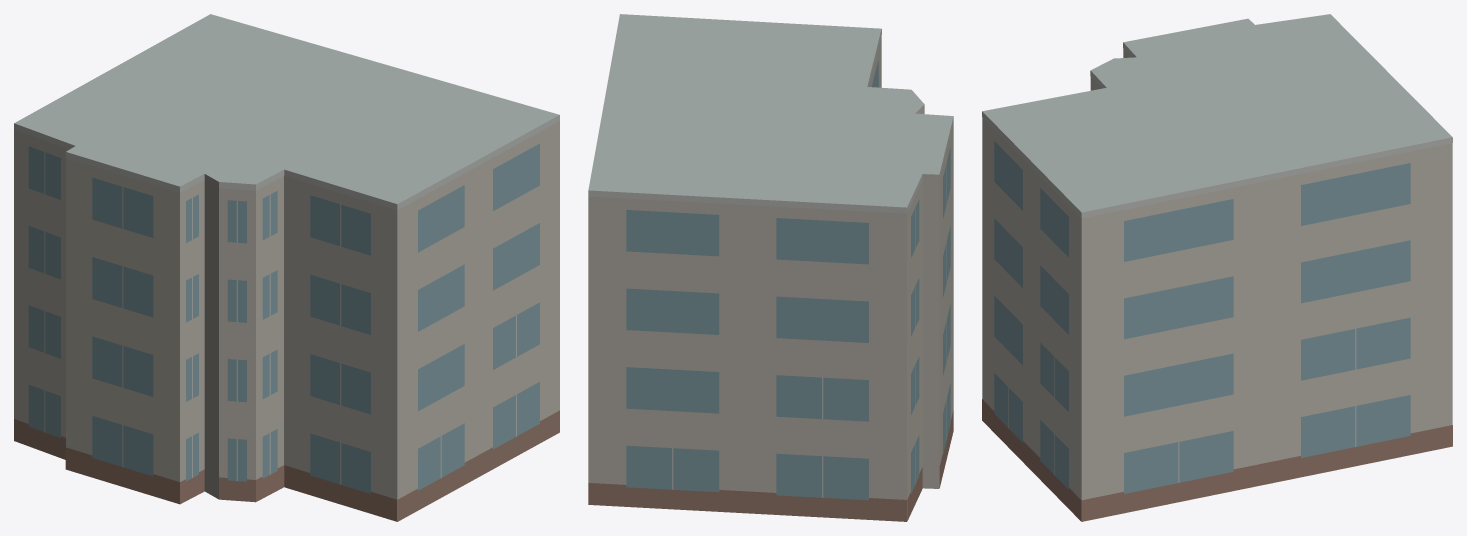
Rendered from survey-upis-32617406.glb.
The picture shows the model from 3 angles, left to right: view 1: azimuth 30°, elevation 25°; view 2: azimuth 150°, elevation 25°; view 3: azimuth 270°, elevation 25°; orthographic projection. The views are drawn at different scales.
Visible parts, largest first — view 1: survey-upis-32617406.tmp; view 2: survey-upis-32617406.tmp; view 3: survey-upis-32617406.tmp.
Boxes of the visible parts, left/top/right/bottom form: survey-upis-32617406.tmp: left=14, top=14, right=559, bottom=521; survey-upis-32617406.tmp: left=588, top=14, right=953, bottom=521; survey-upis-32617406.tmp: left=982, top=14, right=1452, bottom=521.
Bounding box in the file's own units: 17.5 × 12.7 × 17.52.
